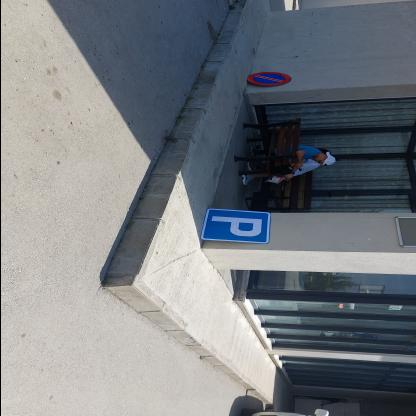Parking-Sign: (201, 209, 271, 245)
